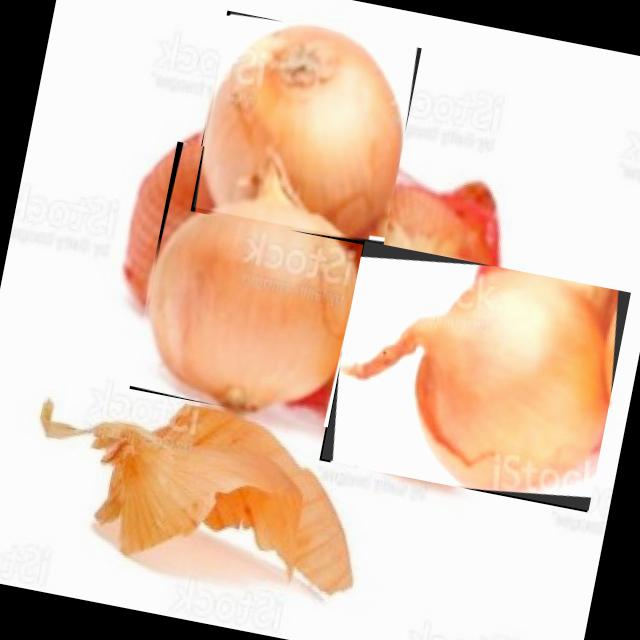healthy: (340, 268, 608, 491), (147, 161, 358, 411), (202, 26, 401, 238)
